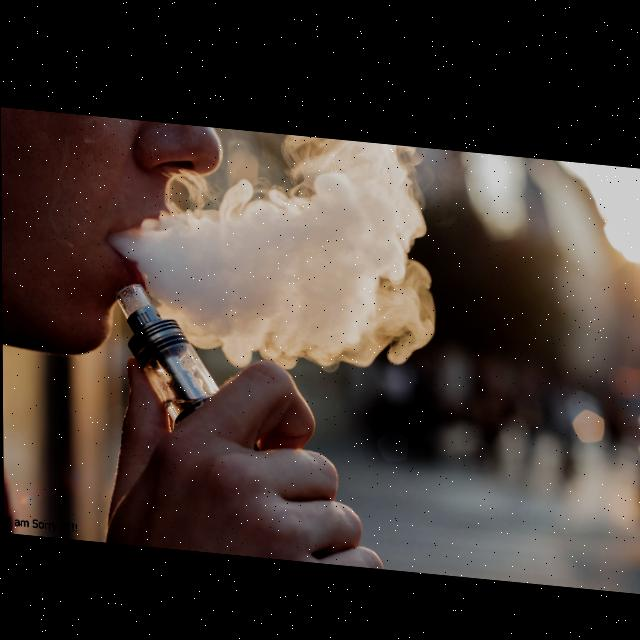vape: (116, 277, 218, 430)
